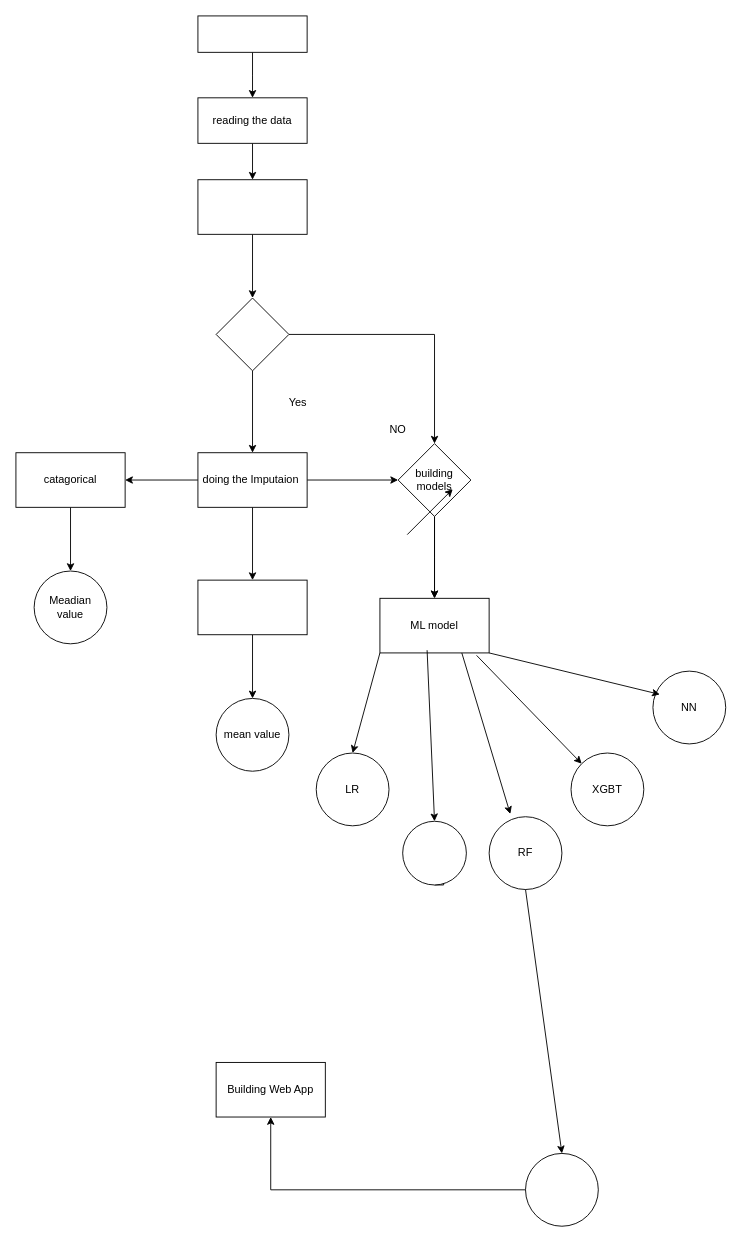
This 742x1242 diagram has some shape labels left out. The shapes that lost their labels are listed below. From the top down, each one's centre as x and y in pixels, then its label:
pixel 252 33: Load the data
pixel 252 206: Looking for missing Values
pixel 252 334: missing values
pixel 252 607: Numerical
pixel 434 852: KNN
pixel 561 1189: Best Model
